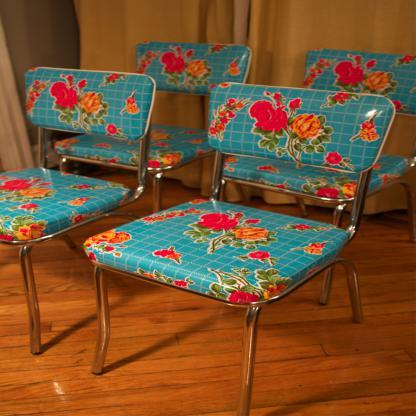chair: (82, 75, 392, 416), (3, 57, 157, 366), (220, 35, 413, 222), (54, 32, 255, 181)
